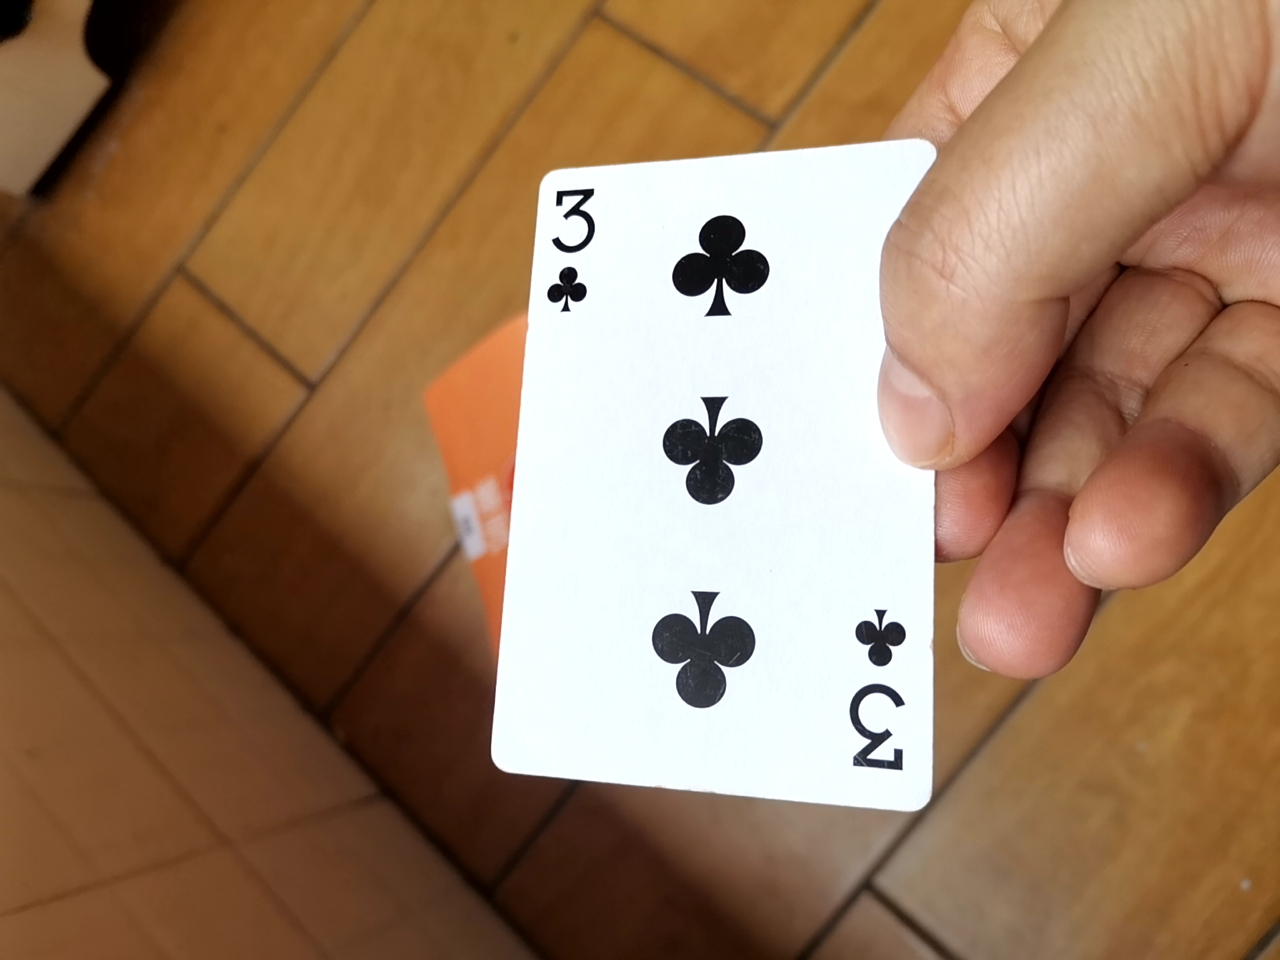mh 3: (465, 156, 921, 819)
